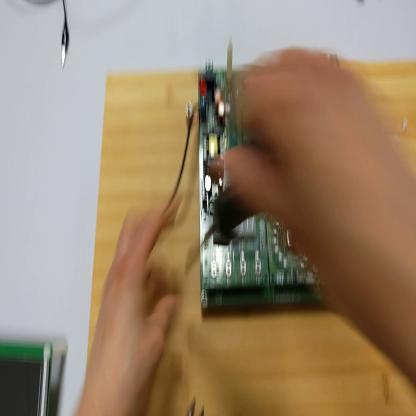hand: (210, 47, 407, 323), (83, 189, 182, 414)
low voltage board: (161, 25, 348, 299)
screwdriver-: (176, 131, 278, 287)
working area: (88, 52, 416, 416)
